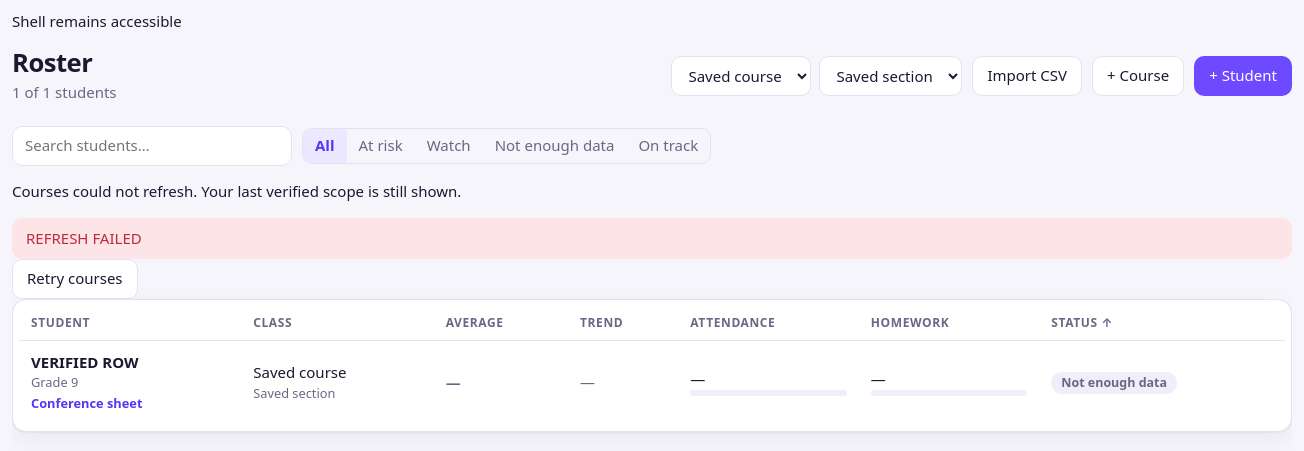
Test: saved scope hydration › background metadata errors preserve verified scope/rows and expose a retry warning
Expected: the text "REFRESH FAILED" is shown, [26,228,142,250]
Expected: the link "VERIFIED ROW" is shown, [31,352,139,372]
Click the button "Retry courses" at (75, 279), box [12,260,138,299]
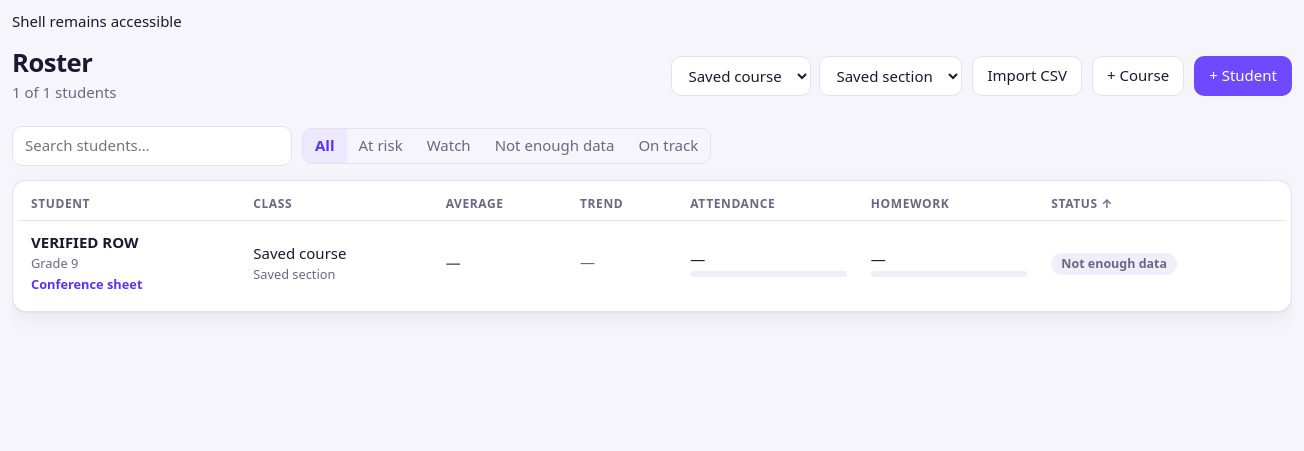
Expected: the text "REFRESH FAILED" is gone
